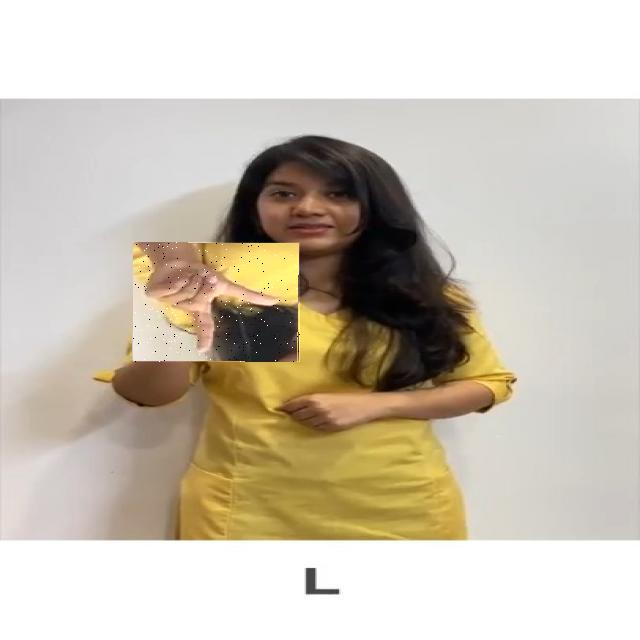L: (133, 242, 300, 362)
